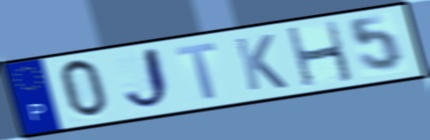0: (57, 56, 113, 122)
5: (344, 12, 410, 77)
H: (283, 19, 357, 89)
J: (121, 45, 175, 114)
K: (231, 32, 291, 93)
T: (172, 40, 220, 102)
